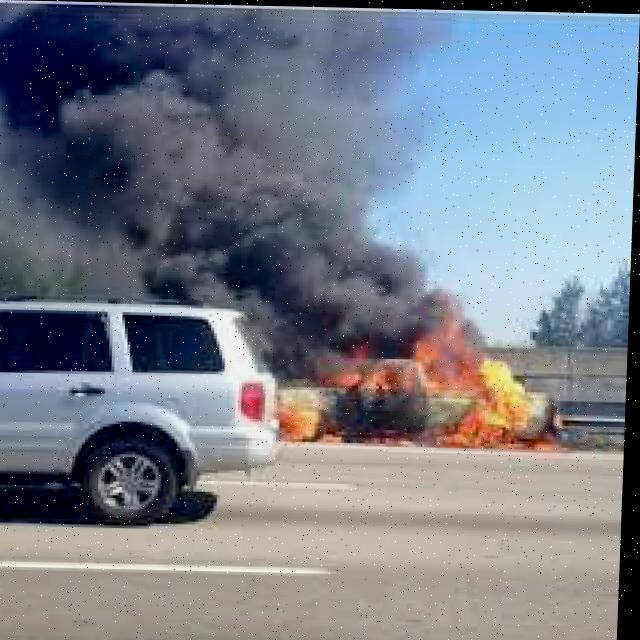Fire: (279, 295, 566, 453)
